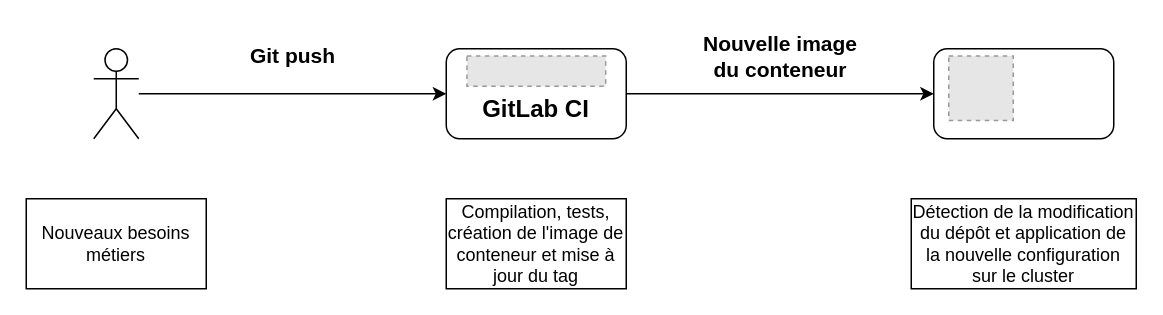
This 1163x315 diagram has some shape labels left out. Grey dashed boxes stand in for pictures. The box of each missing label's shape, as (x1, y1, x2, y2) in pixels:
ArgoCD: (932, 47, 1114, 139)
Dev: (92, 47, 139, 139)
